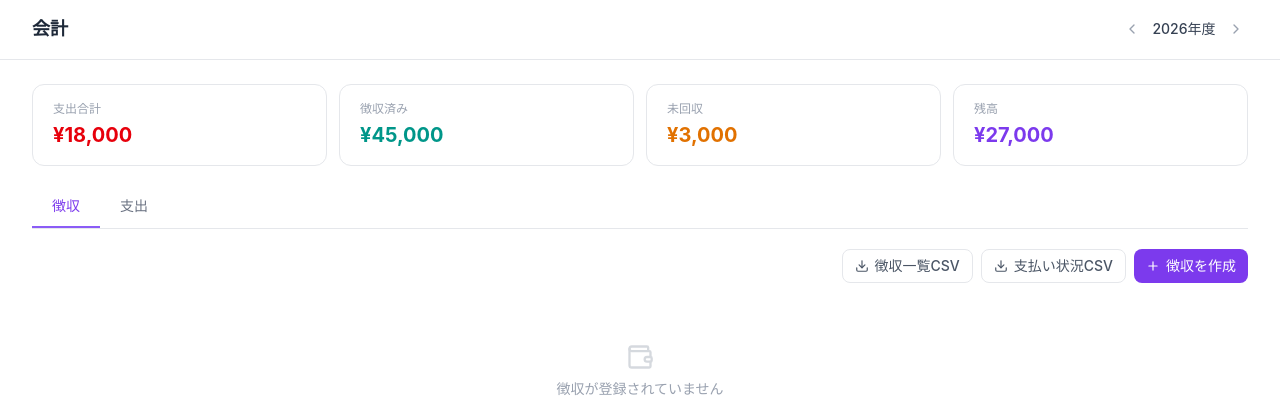
Test: AccountingPage（年度ナビゲーション） › 「前の年度」クリックで前年のデータを再取得する
Expected: the text "¥18,000" is shown, [53, 123, 132, 147]
Click the button named "前の年度" at (1132, 29), box [1120, 17, 1144, 41]
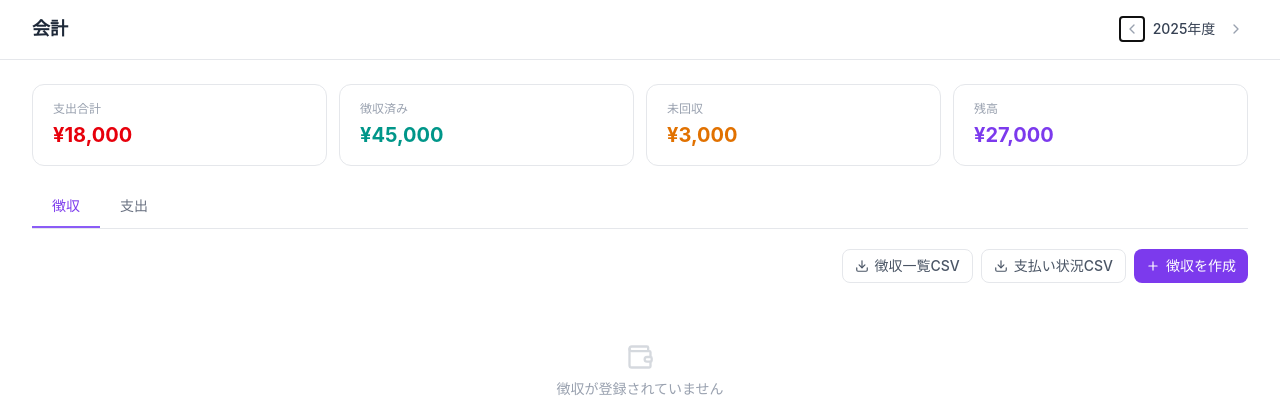
Expected: the text "2025年度" is shown, [1152, 19, 1216, 39]
